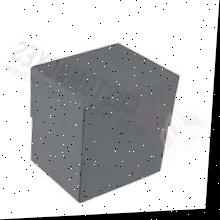cube: (23, 42, 182, 206)
